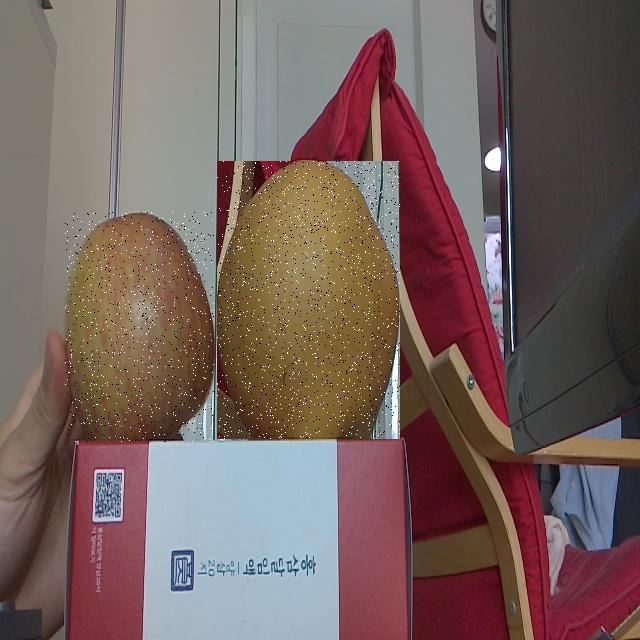apple: (65, 212, 214, 442)
pear: (217, 161, 400, 439)
